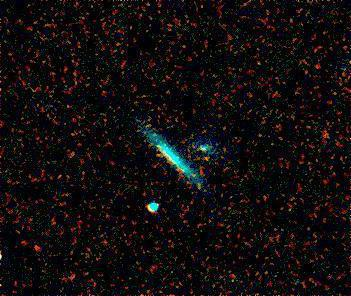star: (192, 144, 222, 174)
